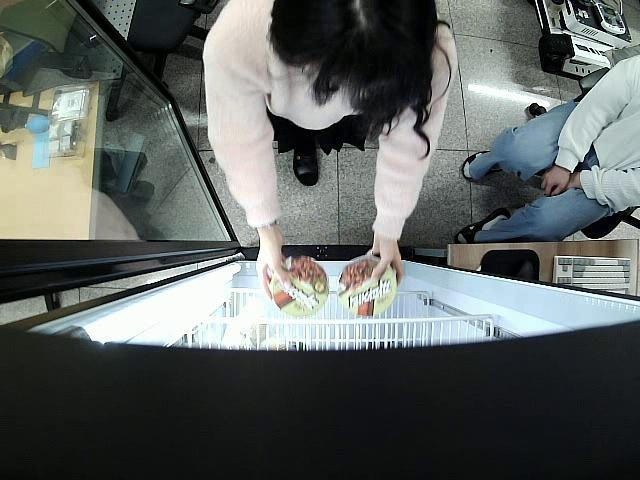03_chapagetti_L: (336, 257, 394, 318), (270, 257, 328, 318)
